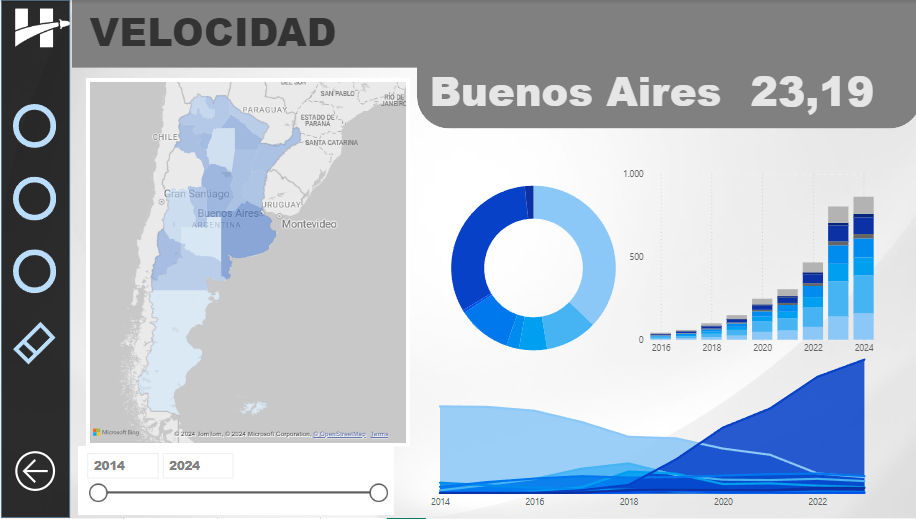

This screenshot's page, from the dashboard's own definition file:
{"tool":"powerbi","page":{"name":"Velocidad","canvas":[1280,720],"ordinal":0},"visuals":[{"type":"group","id":"g1","title":"Grupo 1","box":[13.8,11.2,460,113.1],"z":0,"group":"g2"},{"type":"image","box":[13.8,11.2,109.5,112.7],"z":0,"group":"g1"},{"type":"card","title":"Accesos","fields":{"Values":["Sum(Accesos_Por_Tecnología.Total)"]},"box":[550,15.7,710,90],"z":0},{"type":"textbox","box":[113.8,67.3,360,48.6],"z":1000,"group":"g1"},{"type":"lineChart","title":"MBPS","fields":{"Category":["Totales_Accesos_por_velocidad.Año"],"Y":["Sum(Totales_Accesos_por_velocidad.Entre 1 Mbps y 6 Mbps)","Sum(Totales_Accesos_por_velocidad.Entre 10 Mbps y 20 Mbps)","Sum(Totales_Accesos_por_velocidad.Entre 20 Mbps y 30 Mbps)","Sum(Totales_Accesos_por_velocidad.Entre 512 Kbps y 1 Mbps)","Sum(Totales_Accesos_por_velocidad.Entre 6 Mbps y 10 Mbps)","Sum(Totales_Accesos_por_velocidad.Hasta 512 kbps)","Sum(Totales_Accesos_por_velocidad.OTROS)","Sum(Totales_Accesos_por_velocidad.Más de 30 Mbps)","Sum(Totales_Accesos_por_velocidad.Total)"]},"box":[500,116.7,405,293.3],"z":1000},{"type":"slicer","fields":{"Values":["Ingresos.Año"]},"box":[13.8,608.3,460,97.1],"z":1000,"group":"g2"},{"type":"group","id":"g2","title":"Grupo 2","box":[13.8,11.2,460,693.8],"z":2000},{"type":"textbox","box":[114.5,16.5,325.7,55],"z":2000,"group":"g1"},{"type":"filledMap","title":"Media de bajada por Provincia","fields":{"Category":["Velocidad_por_prov.Provincia"]},"box":[102.1,132.6,371.7,475.5],"z":2000,"group":"g2"},{"type":"tableEx","fields":{"Values":["Accesos_Por_Tecnología.Año"]},"box":[13.8,116.2,88.3,491.7],"z":3000,"group":"g2"},{"type":"pivotTable","title":"Leyenda:","fields":{"Values":["Sum(Totales_Accesos_por_velocidad.Hasta 512 kbps)","Sum(Totales_Accesos_por_velocidad.Entre 512 Kbps y 1 Mbps)","Sum(Totales_Accesos_por_velocidad.Entre 1 Mbps y 6 Mbps)","Sum(Totales_Accesos_por_velocidad.Entre 6 Mbps y 10 Mbps)","Sum(Totales_Accesos_por_velocidad.Entre 10 Mbps y 20 Mbps)","Sum(Totales_Accesos_por_velocidad.Entre 20 Mbps y 30 Mbps)","Sum(Totales_Accesos_por_velocidad.Más de 30 Mbps)","Sum(Totales_Accesos_por_velocidad.OTROS)","Sum(Totales_Accesos_por_velocidad.Total)"]},"box":[485,608.3,795,85],"z":3000},{"type":"hundredPercentStackedColumnChart","fields":{"Y":["Sum(Totales_Accesos_por_velocidad.Entre 1 Mbps y 6 Mbps)","Sum(Totales_Accesos_por_velocidad.Entre 10 Mbps y 20 Mbps)","Sum(Totales_Accesos_por_velocidad.Entre 20 Mbps y 30 Mbps)","Sum(Totales_Accesos_por_velocidad.Entre 512 Kbps y 1 Mbps)","Sum(Totales_Accesos_por_velocidad.Entre 6 Mbps y 10 Mbps)","Sum(Totales_Accesos_por_velocidad.Hasta 512 kbps)","Sum(Totales_Accesos_por_velocidad.Más de 30 Mbps)","Sum(Totales_Accesos_por_velocidad.OTROS)"],"Category":["Totales_Accesos_por_velocidad.Año"]},"box":[501.4,428.6,732.9,180],"z":4000},{"type":"clusteredBarChart","fields":{"Category":["Velocidad_por_prov.Provincia"],"Y":["Avg(Velocidad_por_prov.Mbps (Media de bajada))"]},"box":[905,117,355,293],"z":5000}]}

Visuals, with their boxes on the page's 1280x720 design canvas (x1, y1, x2, y2). These are canvas units, not pixel positions in the 916x519 screenshot, which may show the page scaled, cropped or inside an application window:
"Grupo 1" group: (left=14, top=11, right=474, bottom=124)
image: (left=14, top=11, right=123, bottom=124)
"Accesos" card: (left=550, top=16, right=1260, bottom=106)
textbox: (left=114, top=67, right=474, bottom=116)
"MBPS" lineChart: (left=500, top=117, right=905, bottom=410)
slicer - Ingresos.Año: (left=14, top=608, right=474, bottom=705)
"Grupo 2" group: (left=14, top=11, right=474, bottom=705)
textbox: (left=114, top=16, right=440, bottom=72)
"Media de bajada por Provincia" filledMap: (left=102, top=133, right=474, bottom=608)
tableEx - Accesos_Por_Tecnología.Año: (left=14, top=116, right=102, bottom=608)
"Leyenda:" pivotTable: (left=485, top=608, right=1280, bottom=693)
hundredPercentStackedColumnChart - Sum(Totales_Accesos_por_velocidad.Entre 1 Mbps y 6 Mbps) x Sum(Totales_Accesos_por_velocidad.Entre 10 Mbps y 20 Mbps): (left=501, top=429, right=1234, bottom=609)
clusteredBarChart - Velocidad_por_prov.Provincia x Avg(Velocidad_por_prov.Mbps (Media de bajada)): (left=905, top=117, right=1260, bottom=410)
